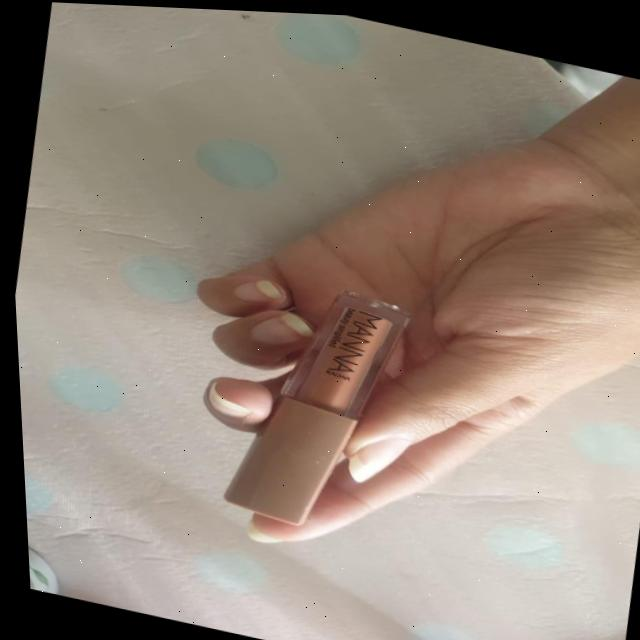lip gloss: (192, 238, 443, 557)
